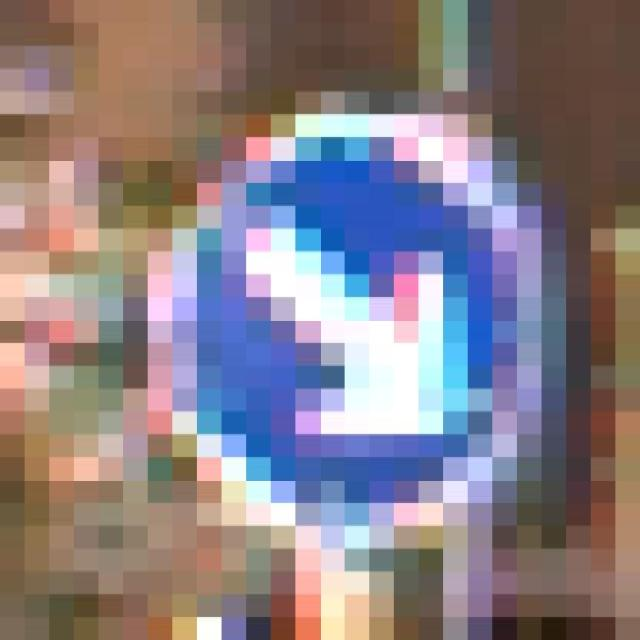Keep-Right: (148, 46, 590, 548)
